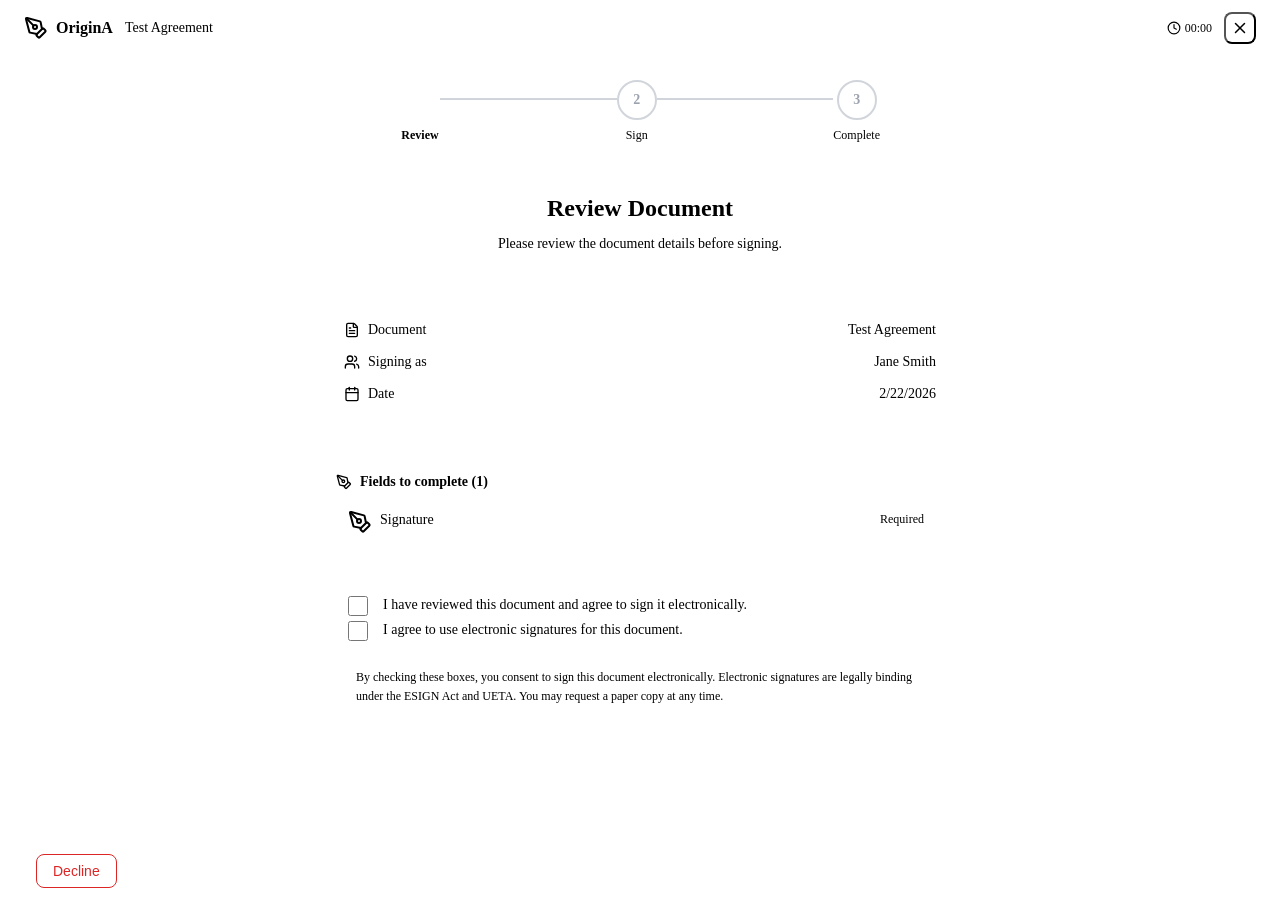
Test: SigningCeremony › Decline › opens decline modal when decline button is clicked
What coordinates should you click on to do the following:
click the button with aria-label "Decline to sign"
I would click on:
 (76, 871)
Its box is [36,854,117,888].
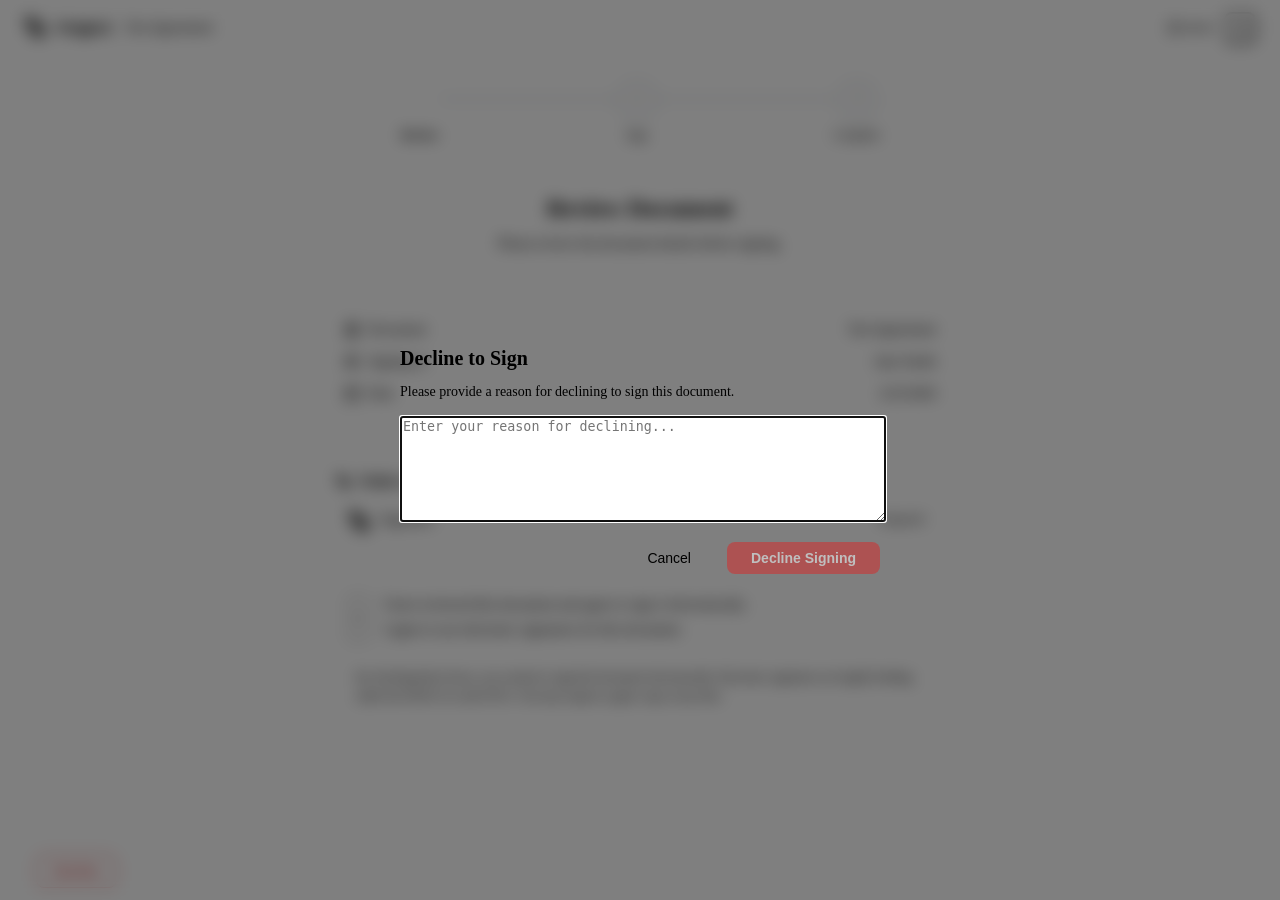
Check: the heading "Decline to Sign" is shown, box [400,346,528,368]
Check: the text box named "Decline reason" is shown, box [400,416,886,522]
